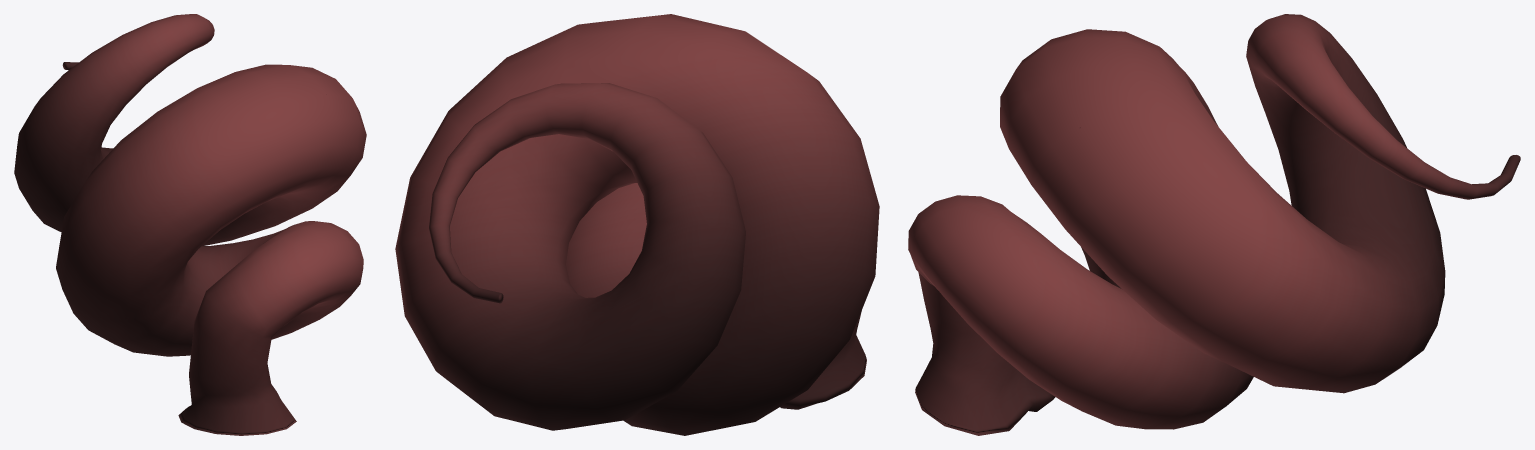
Rendered from spiral.glb.
3 views of the same model, side by side, from view 1: azimuth 30°, elevation 25°; view 2: azimuth 150°, elevation 25°; view 3: azimuth 270°, elevation 25° (orthographic). The views are drawn at different scales.
Visible parts, largest first — view 1: t_spiral2; view 2: t_spiral2; view 3: t_spiral2.
Part boxes in pixels (x1,y1,x2,y2): t_spiral2: (14, 14, 366, 435); t_spiral2: (395, 14, 879, 435); t_spiral2: (908, 14, 1520, 435).
Bounding box in the file's own units: 0.0688 × 0.0654 × 0.0894.
1 material, 1 textured.
